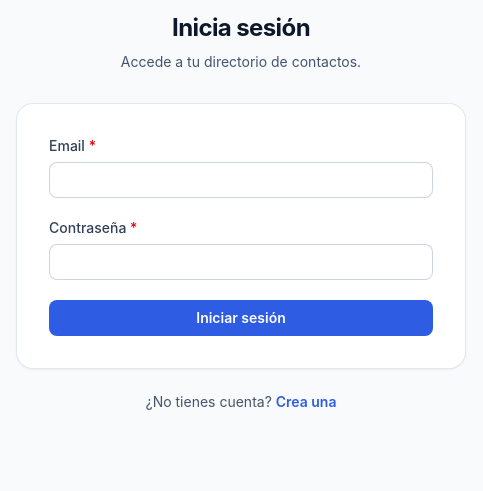
Test: LoginView › muestra el error del servidor y se queda en el login
The width and height of the screenshot is (483, 491).
Type "  ana@test.com " into the field labelled "Email *" at coordinates (241, 180), box [49,162,433,198]
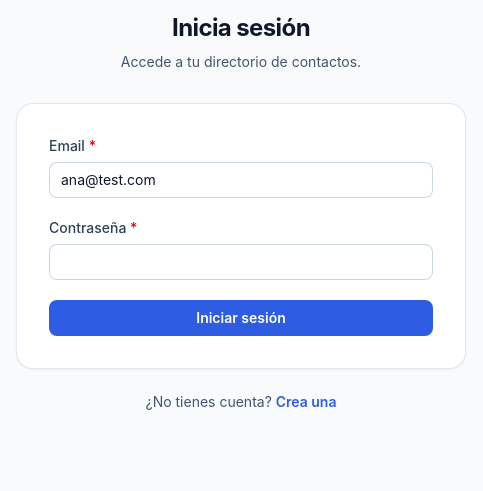
Type "secreto123" into the password field labelled "Contraseña *" at coordinates (241, 262), box [49,244,433,280]
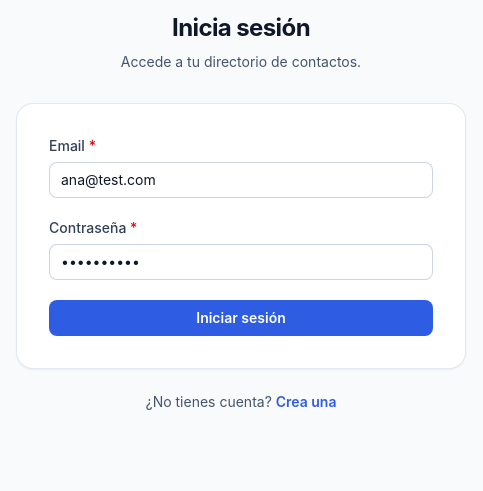
Submit the form, box [49,136,433,336]
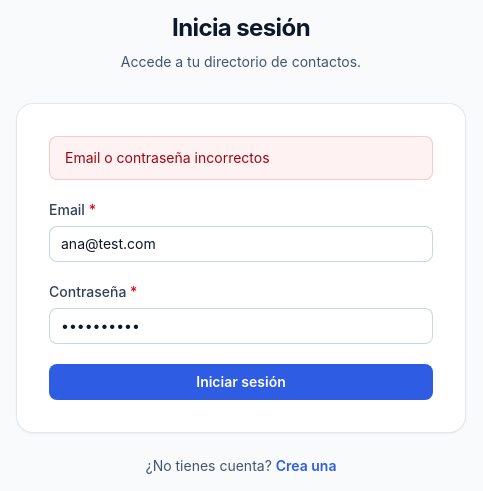
Expected: the message "Email o contraseña incorrectos" is shown, [49,136,433,180]
